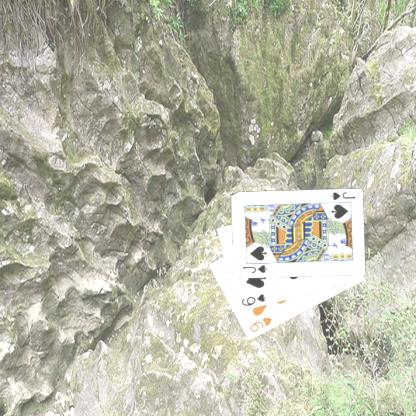6S: (239, 292, 267, 308)
9H: (247, 315, 274, 334)
JS: (240, 262, 268, 275), (329, 190, 356, 201)
